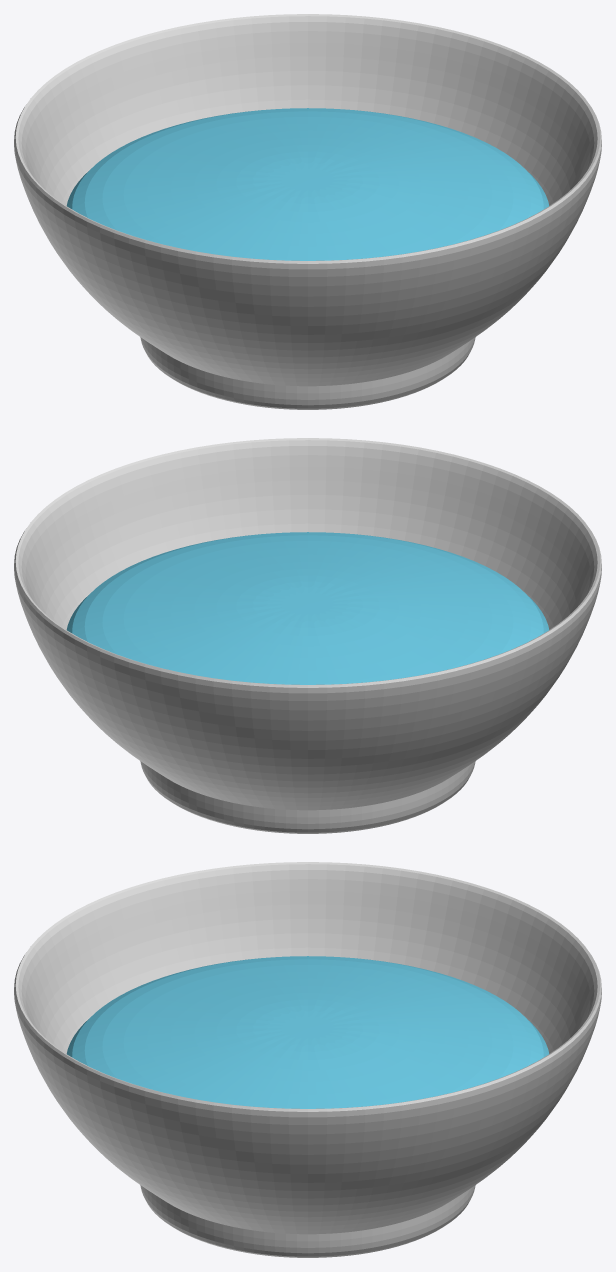
The model's file is water.fbx.
3 renders of one model, top to bottom at view 1: azimuth 30°, elevation 25°; view 2: azimuth 150°, elevation 25°; view 3: azimuth 270°, elevation 25°, orthographic.
Parts seen in each view (by area): view 1: 구체.002; view 2: 구체.002; view 3: 구체.002.
Part boxes in pixels (box(x1,y1,x2,y2)): 구체.002: box(14, 14, 601, 409); 구체.002: box(14, 438, 601, 833); 구체.002: box(14, 862, 601, 1257).
Size of the model in its own units: 191 by 73.37 by 191.
